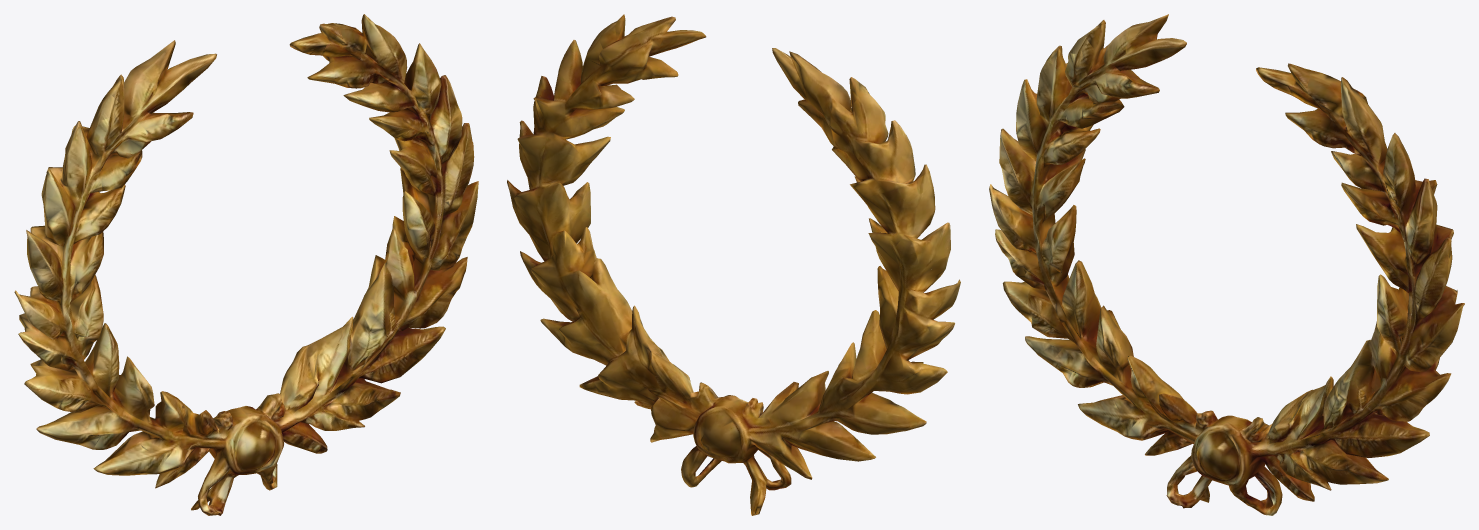
Rendered from laurel-wreath.glb.
3 views of the same model, side by side, from view 1: azimuth 30°, elevation 25°; view 2: azimuth 150°, elevation 25°; view 3: azimuth 330°, elevation 25° (orthographic). The views are drawn at different scales.
Parts seen in each view (by area): view 1: tripo_node_45bd14f0-f73c-4648-a8ea-3f755c816948; view 2: tripo_node_45bd14f0-f73c-4648-a8ea-3f755c816948; view 3: tripo_node_45bd14f0-f73c-4648-a8ea-3f755c816948.
Boxes of the visible parts, bbox=[...] form: tripo_node_45bd14f0-f73c-4648-a8ea-3f755c816948: bbox=[14, 14, 478, 515]; tripo_node_45bd14f0-f73c-4648-a8ea-3f755c816948: bbox=[507, 14, 960, 515]; tripo_node_45bd14f0-f73c-4648-a8ea-3f755c816948: bbox=[989, 14, 1464, 515].
Bounding box in the file's own units: 0.9795 × 0.9683 × 0.1116.
Materials: 1 (1 with a texture image).
